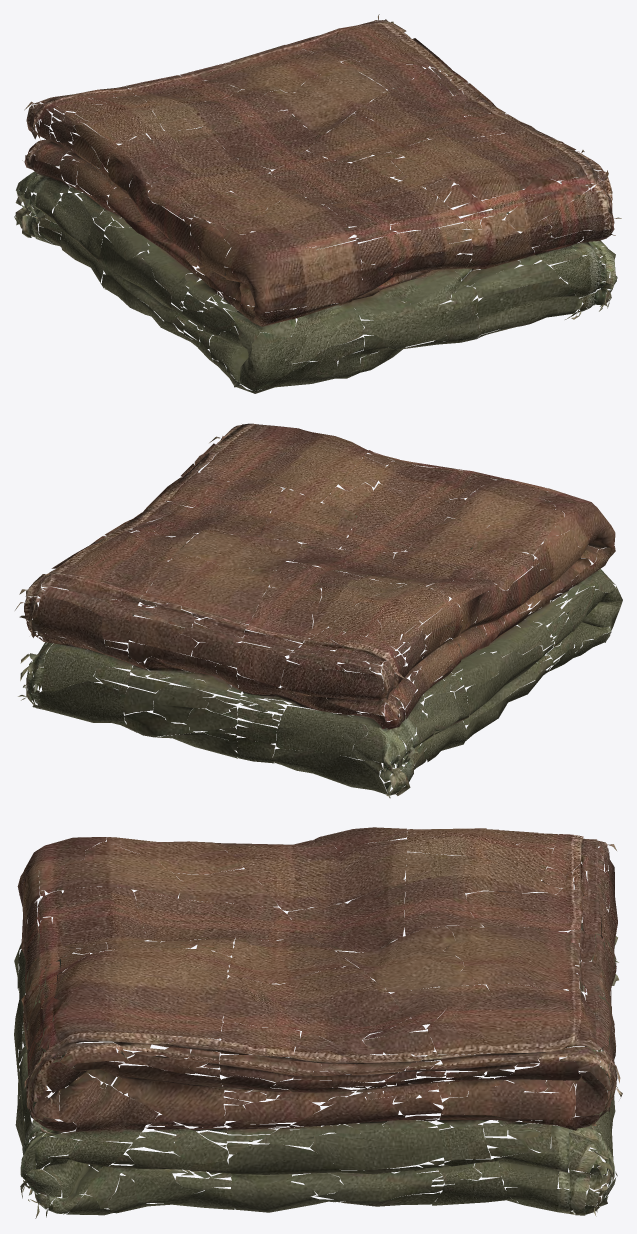
File: blanket_prop.glb
3 views of the same model, one above another, from view 1: azimuth 30°, elevation 25°; view 2: azimuth 150°, elevation 25°; view 3: azimuth 270°, elevation 25° (orthographic). The views are drawn at different scales.
Parts seen in each view (by area): view 1: prop_blanket; view 2: prop_blanket; view 3: prop_blanket.
Boxes of the visible parts, bbox=[...] form: prop_blanket: bbox=[14, 14, 621, 393]; prop_blanket: bbox=[15, 423, 622, 798]; prop_blanket: bbox=[14, 827, 622, 1218].
Bounding box in the file's own units: 0.9117 × 0.3508 × 0.9818.
1 material, 1 textured.
